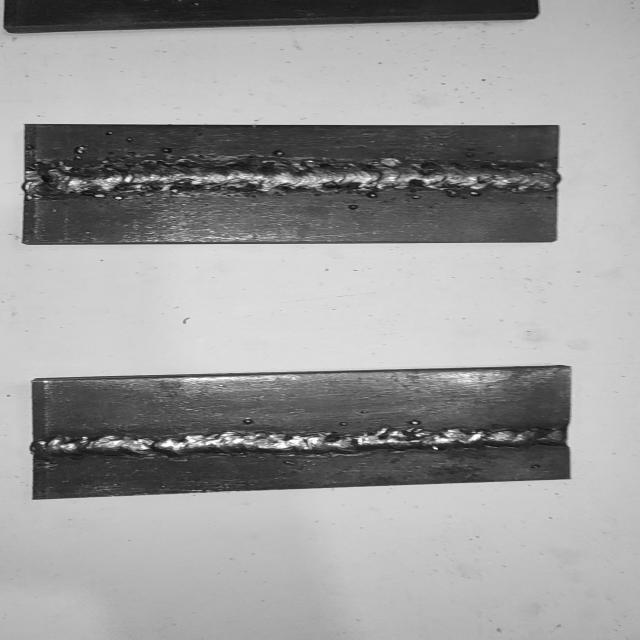Defect: (25, 148, 88, 208)
Welding Line: (26, 160, 556, 202), (40, 426, 562, 458)
Workpiece: (28, 362, 577, 502), (13, 120, 566, 249)
